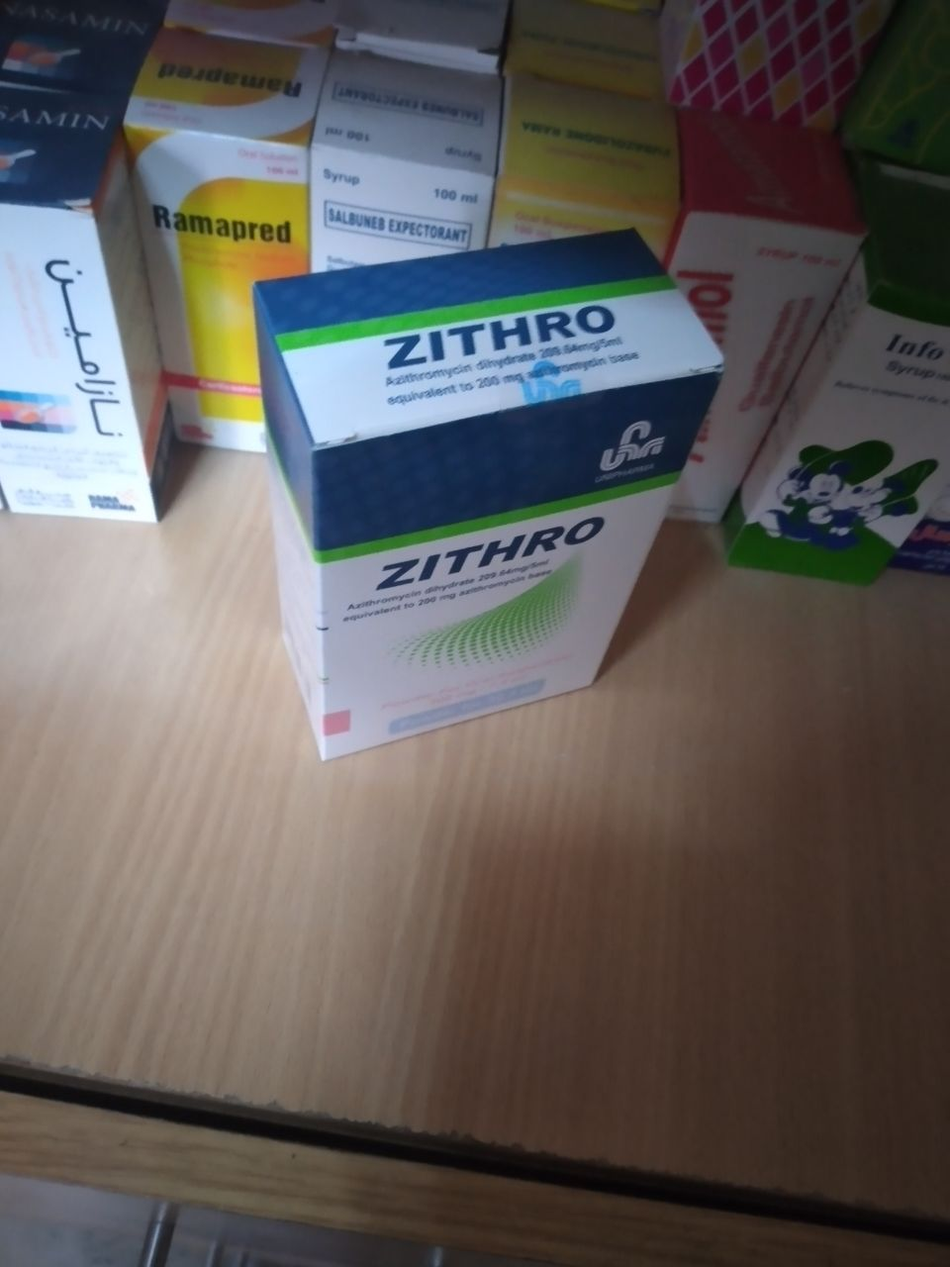Medicine: (251, 234, 719, 812), (630, 155, 868, 571), (0, 99, 198, 561), (752, 195, 950, 614), (122, 53, 303, 482), (495, 66, 693, 267), (320, 109, 495, 254)
